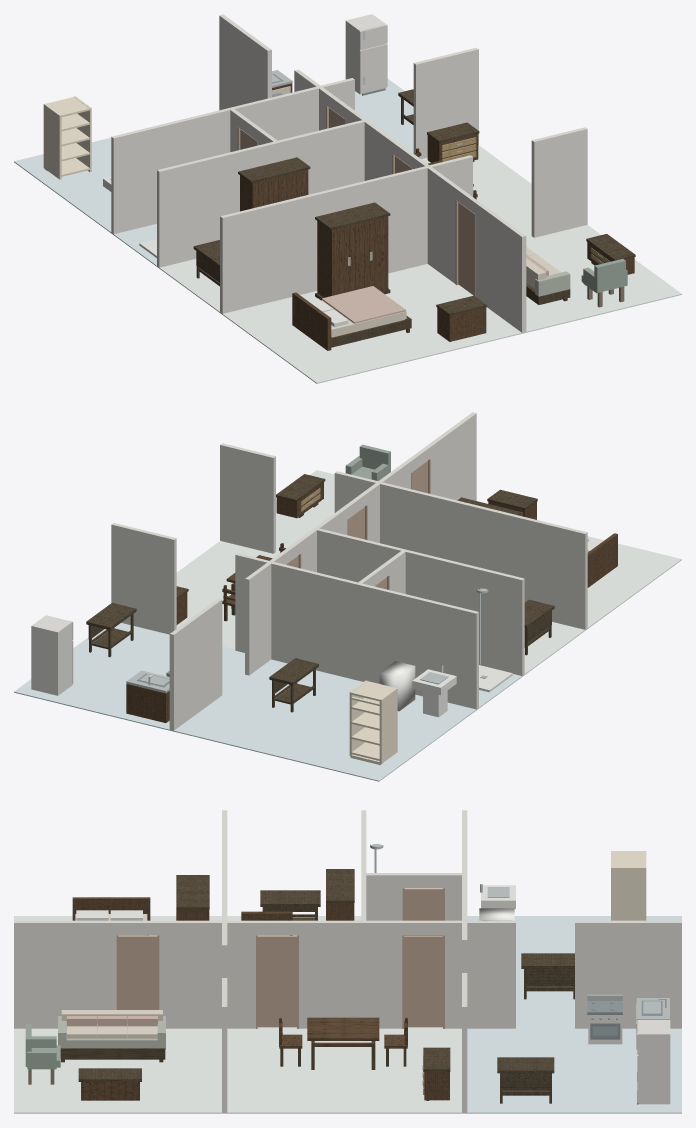
The picture shows the model from 3 angles, top to bottom: view 1: azimuth 30°, elevation 25°; view 2: azimuth 150°, elevation 25°; view 3: azimuth 270°, elevation 25°; orthographic projection. The views are drawn at different scales.
Visible parts, largest first — view 1: H31_WALL_09, H31_WALL_10, H31_FLOOR_03_QUARTO_CASAL, H31_WALL_11, H31_FLOOR_00_SALA_DE_ESTAR, H31_WALL_00, H31_WALL_02, H31_WALL_04, H31_WALL_08, H31_FLOOR_07_LAVANDERIA_/_APOIO, H31_FLOOR_01_JANTAR_/_ENTRADA, H31_WALL_05 (+31 smaller); view 2: H31_WALL_11, H31_WALL_09, H31_FLOOR_07_LAVANDERIA_/_APOIO, H31_WALL_10, H31_FLOOR_02_COZINHA, H31_WALL_02, H31_WALL_00, H31_WALL_08, H31_FLOOR_01_JANTAR_/_ENTRADA, H31_FLOOR_03_QUARTO_CASAL, H31_WALL_04, H31_FURN_07_fridge__05__gabinete (+22 smaller); view 3: H31_FLOOR_01_JANTAR_/_ENTRADA, H31_FLOOR_02_COZINHA, H31_FLOOR_00_SALA_DE_ESTAR, H31_WALL_06, H31_WALL_04, H31_WALL_05, H31_WALL_08, H31_WALL_07, H31_FLOOR_07_LAVANDERIA_/_APOIO, H31_DOOR_01_LEAF, H31_DOOR_02_LEAF, H31_DOOR_00_LEAF (+38 smaller).
Part boxes in pixels (x1,y1,x2,y2): H31_WALL_09: (220,166,429,313); H31_WALL_10: (157,120,364,267); H31_FLOOR_03_QUARTO_CASAL: (221,264,523,383); H31_WALL_11: (111,86,320,233); H31_FLOOR_00_SALA_DE_ESTAR: (524,225,681,333); H31_WALL_00: (531,127,587,237); H31_WALL_02: (413,47,478,159); H31_WALL_04: (475,201,526,332); H31_WALL_08: (219,14,271,110); H31_FLOOR_07_LAVANDERIA_/_APOIO: (14,137,112,233); H31_FLOOR_01_JANTAR_/_ENTRADA: (421,145,532,238); H31_WALL_05: (412,155,460,283); H31_WALL_11: (269,561,478,709); H31_WALL_09: (380,482,587,629); H31_FLOOR_07_LAVANDERIA_/_APOIO: (172,659,477,781); H31_WALL_10: (315,528,524,675); H31_FLOOR_02_COZINHA: (14,623,246,730); H31_WALL_02: (111,523,176,634); H31_WALL_00: (220,443,275,553); H31_WALL_08: (169,598,222,730); H31_FLOOR_01_JANTAR_/_ENTRADA: (176,541,278,649); H31_FLOOR_03_QUARTO_CASAL: (586,536,681,629); H31_WALL_04: (426,412,476,500); H31_FURN_07_fridge__05__gabinete: (31,615,72,695); H31_FLOOR_01_JANTAR_/_ENTRADA: (224,1027,464,1113); H31_FLOOR_02_COZINHA: (464,1027,681,1113); H31_FLOOR_00_SALA_DE_ESTAR: (14,1028,224,1113); H31_WALL_06: (298,920,403,1028); H31_WALL_04: (14,920,117,1028); H31_WALL_05: (158,920,256,1028); H31_WALL_08: (575,920,681,1028); H31_WALL_07: (444,920,515,1028); H31_FLOOR_07_LAVANDERIA_/_APOIO: (467,916,681,1027); H31_DOOR_01_LEAF: (257,936,296,1027); H31_DOOR_02_LEAF: (404,936,442,1027); H31_DOOR_00_LEAF: (118,936,157,1009).
Size of the model in its own units: 9.69 by 2.46 by 13.92.
Materials: 22 (3 with a texture image).
